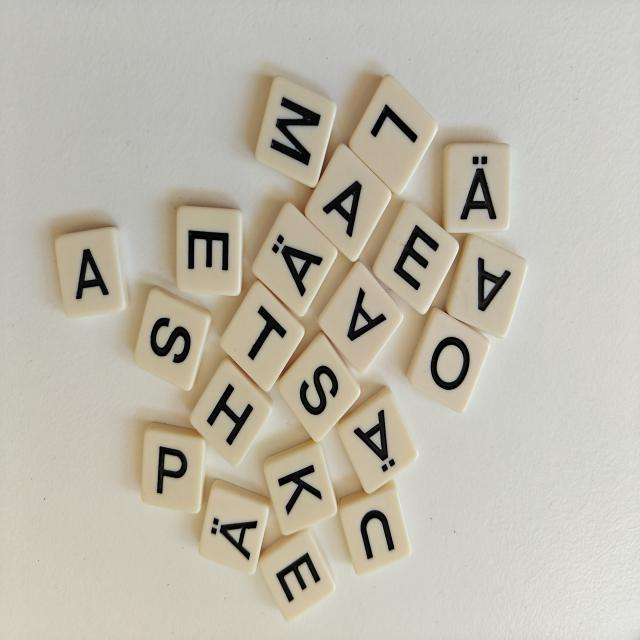a: (305, 144, 391, 262), (318, 261, 403, 373), (446, 235, 527, 337), (55, 227, 128, 318)
a_dot: (252, 203, 337, 317), (338, 387, 418, 493), (199, 479, 269, 574), (442, 143, 511, 233)
e: (373, 202, 459, 314), (259, 527, 335, 620), (177, 206, 243, 295)
h: (190, 356, 273, 466)
k: (264, 440, 337, 535)
l: (349, 75, 437, 195)
m: (255, 76, 336, 188)
o: (407, 308, 489, 412)
p: (141, 423, 208, 513)
s: (278, 332, 360, 442), (134, 287, 211, 390)
t: (221, 281, 305, 392)
u: (340, 481, 411, 574)
